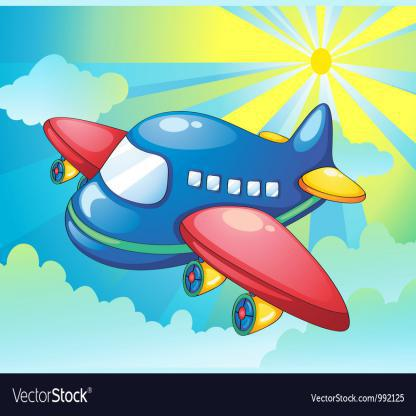CIV_Plane: (32, 104, 367, 335)
